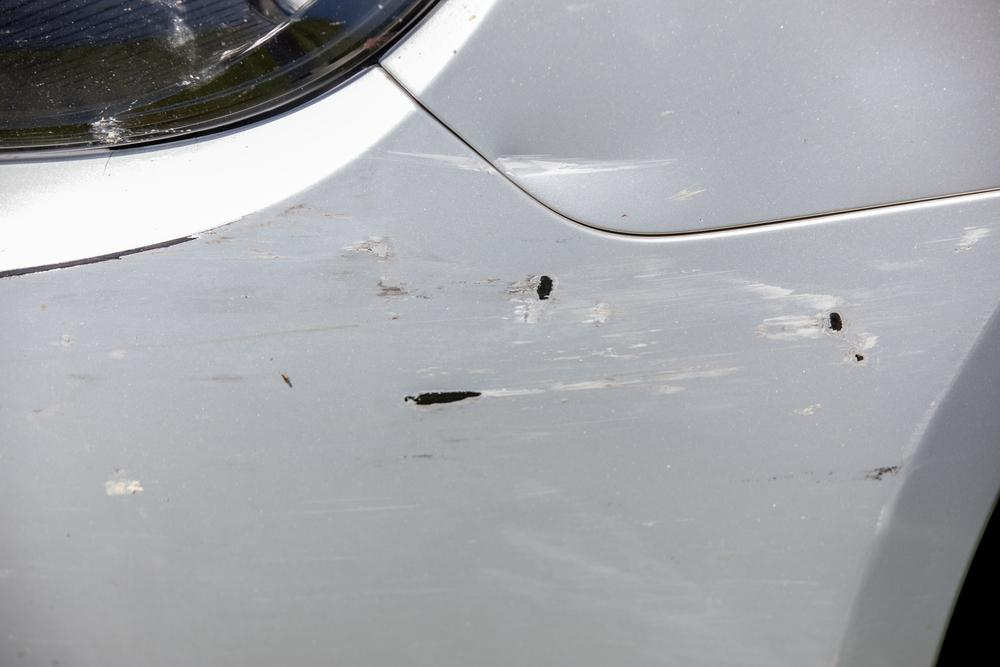dent: (490, 148, 650, 176)
scratch: (36, 148, 1000, 602)
